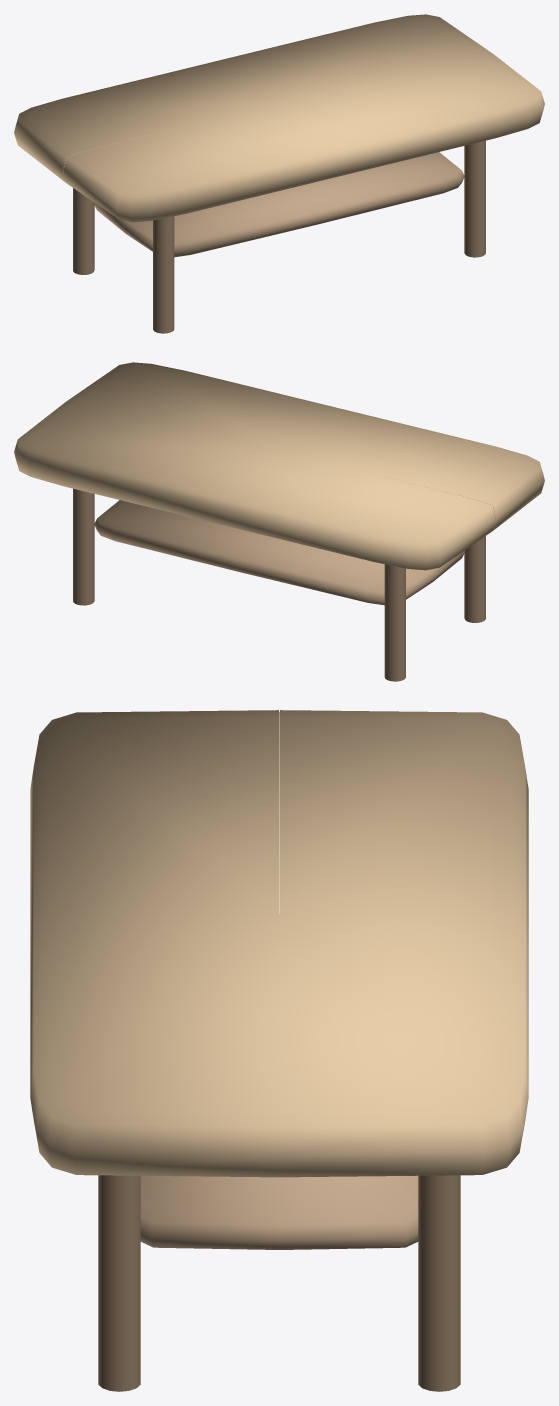
The model's file is coffee_table_1200x600.glb.
3 views of the same model, one above another, from view 1: azimuth 30°, elevation 25°; view 2: azimuth 150°, elevation 25°; view 3: azimuth 270°, elevation 25° (orthographic). The views are drawn at different scales.
Visible parts, largest first — view 1: rounded_stone_top, thin_lower_shelf, round_table_leg (×3); view 2: rounded_stone_top, thin_lower_shelf, round_table_leg (×3); view 3: rounded_stone_top, thin_lower_shelf, round_table_leg (×2).
Part boxes in pixels (x1,y1,x2,y2): rounded_stone_top: (14, 14, 544, 222); thin_lower_shelf: (94, 152, 464, 257); round_table_leg (×3): (73, 140, 485, 333); rounded_stone_top: (14, 362, 544, 570); thin_lower_shelf: (94, 500, 464, 605); round_table_leg (×3): (73, 488, 485, 681); rounded_stone_top: (30, 710, 528, 1177); thin_lower_shelf: (140, 1175, 418, 1249); round_table_leg (×2): (98, 1175, 460, 1391).
Bounding box in the file's own units: 1.2 × 0.42 × 0.5983.
